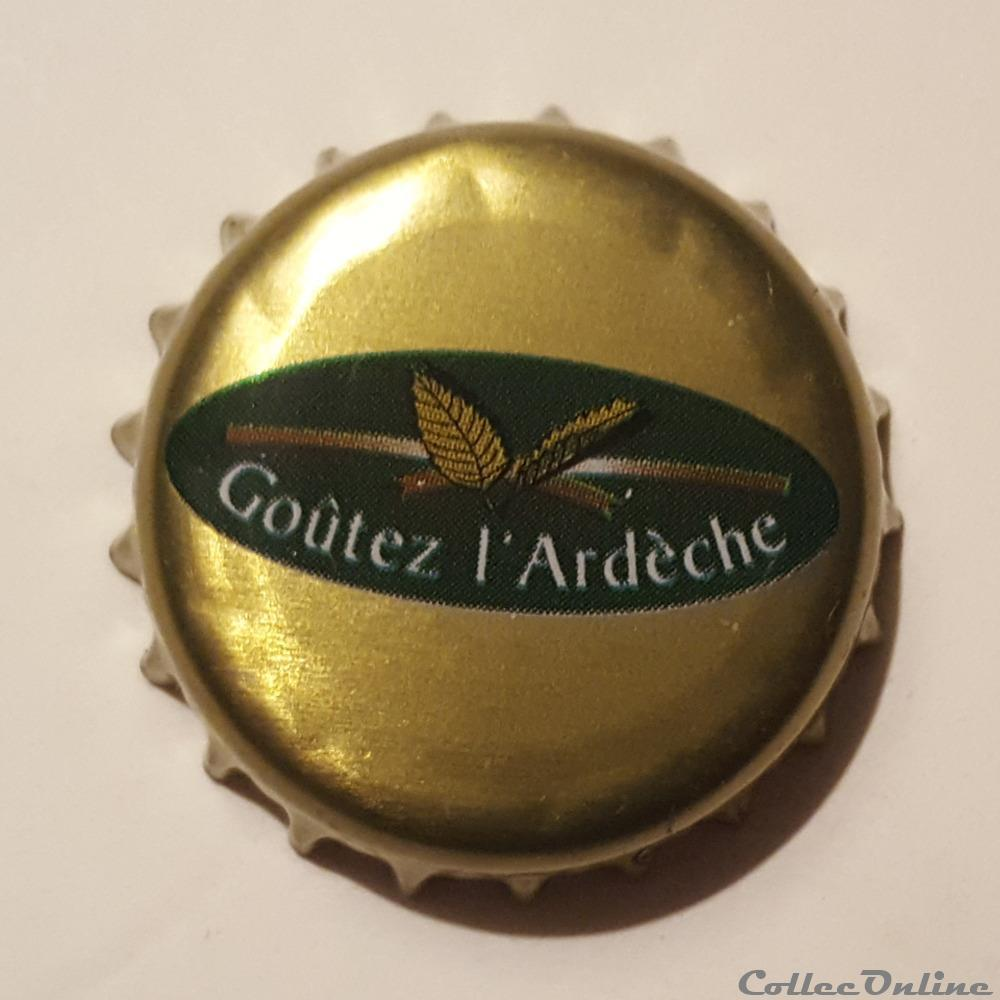metal: (110, 122, 898, 892)
